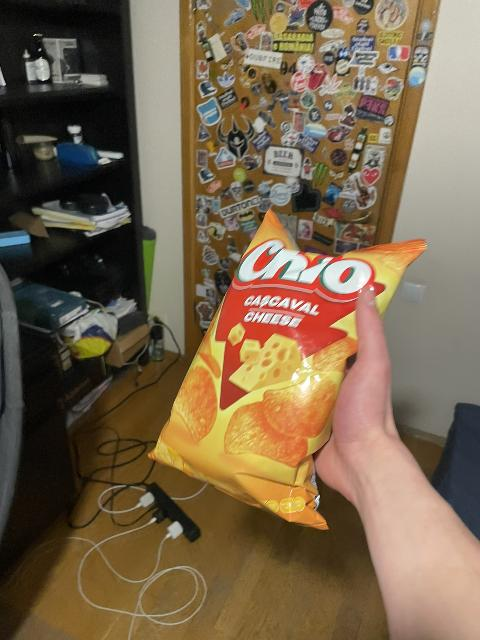Chio Cascaval 125g: (155, 225, 427, 525)
